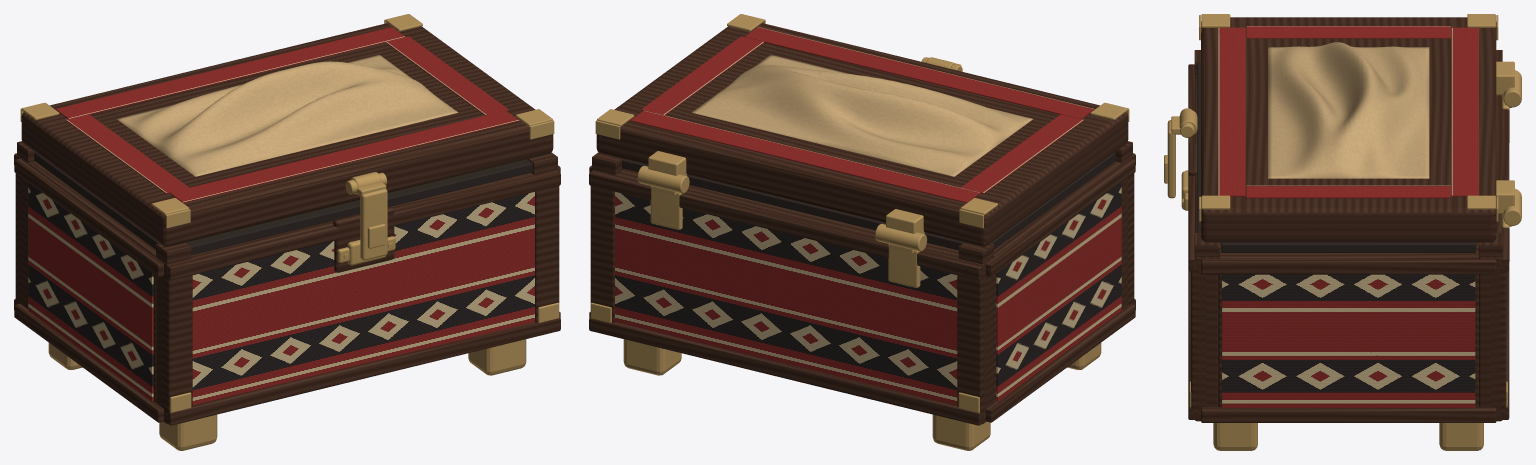
Rendered from kuwait.glb.
The picture shows the model from 3 angles, left to right: view 1: azimuth 30°, elevation 25°; view 2: azimuth 150°, elevation 25°; view 3: azimuth 270°, elevation 25°; orthographic projection. The views are drawn at different scales.
Parts seen in each view (by area): view 1: Sadu / front panel, Lid / polished slab, Dune / sculpted relief, Sadu / side panel, Frame / horizontal rail, Frame / horizontal rail.001, Sadu / lid band, Sadu / lid band.001, Seam / long, Frame / corner post, Frame / corner post.002, Frame / side rail.001 (+13 smaller); view 2: Sadu / rear panel, Lid / polished slab, Dune / sculpted relief, Sadu / side panel, Frame / horizontal rail.002, Frame / horizontal rail.003, Sadu / lid band.001, Sadu / lid band, Body / wood backing.001, Frame / corner post.001, Frame / corner post.003, Frame / side rail.001 (+17 smaller); view 3: Sadu / side panel.001, Lid / polished slab, Dune / sculpted relief, Sadu / lid band.001, Sadu / lid band, Frame / side rail.003, Frame / side rail.002, Body / wood backing.001, Body / wood backing, Sadu / lid side band.001, Seam / side.001, Sadu / lid side band (+21 smaller).
Boxes of the visible parts, x1,y1,x2,y2 form: Sadu / front panel: [192, 192, 534, 405]; Lid / polished slab: [21, 23, 553, 246]; Dune / sculpted relief: [117, 54, 457, 176]; Sadu / side panel: [28, 182, 153, 401]; Frame / horizontal rail: [167, 317, 560, 425]; Frame / horizontal rail.001: [167, 171, 560, 280]; Sadu / lid band: [169, 110, 519, 203]; Sadu / lid band.001: [55, 27, 404, 119]; Seam / long: [186, 159, 532, 255]; Frame / corner post: [161, 271, 192, 417]; Frame / corner post.002: [535, 186, 559, 322]; Frame / side rail.001: [14, 158, 163, 277]; Sadu / rear panel: [615, 192, 957, 405]; Lid / polished slab: [596, 23, 1128, 246]; Dune / sculpted relief: [692, 54, 1032, 176]; Sadu / side panel: [996, 182, 1121, 401]; Frame / horizontal rail.002: [589, 317, 982, 425]; Frame / horizontal rail.003: [589, 171, 982, 280]; Sadu / lid band.001: [630, 110, 980, 203]; Sadu / lid band: [745, 27, 1094, 119]; Body / wood backing.001: [592, 169, 993, 424]; Frame / corner post.001: [957, 272, 986, 417]; Frame / corner post.003: [590, 186, 614, 322]; Frame / side rail.001: [986, 158, 1135, 277]; Sadu / side panel.001: [1222, 274, 1475, 407]; Lid / polished slab: [1201, 17, 1496, 242]; Dune / sculpted relief: [1268, 42, 1429, 178]; Sadu / lid band.001: [1451, 27, 1478, 196]; Sadu / lid band: [1218, 27, 1245, 196]; Frame / side rail.003: [1201, 259, 1496, 274]; Frame / side rail.002: [1201, 407, 1496, 422]; Body / wood backing.001: [1479, 95, 1502, 421]; Body / wood backing: [1195, 74, 1218, 421]; Sadu / lid side band.001: [1246, 185, 1450, 198]; Seam / side.001: [1221, 242, 1475, 252]; Sadu / lid side band: [1246, 26, 1450, 38].
Size of the model in its own units: 3.83 by 2.58 by 2.88.
Materials: 5 (3 with a texture image).
